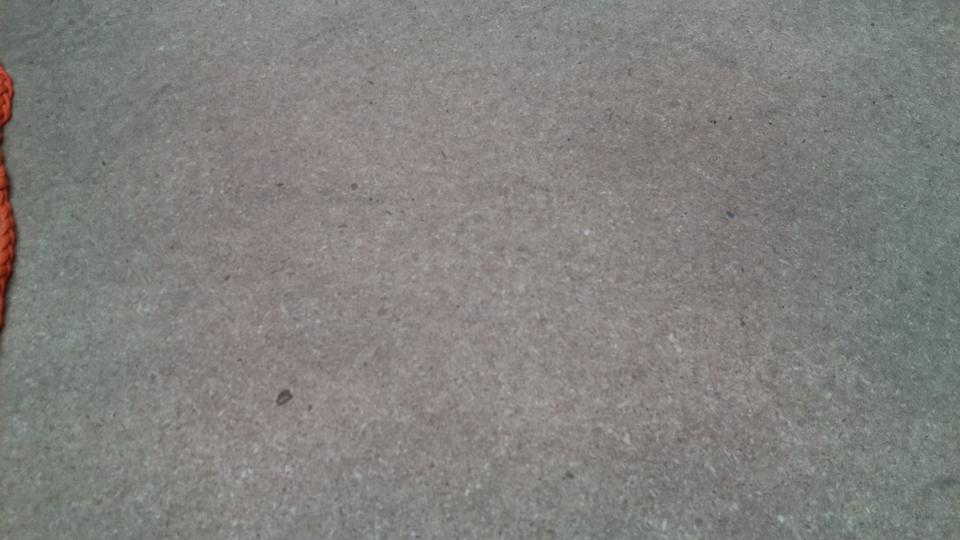rope: (1, 49, 23, 360)
